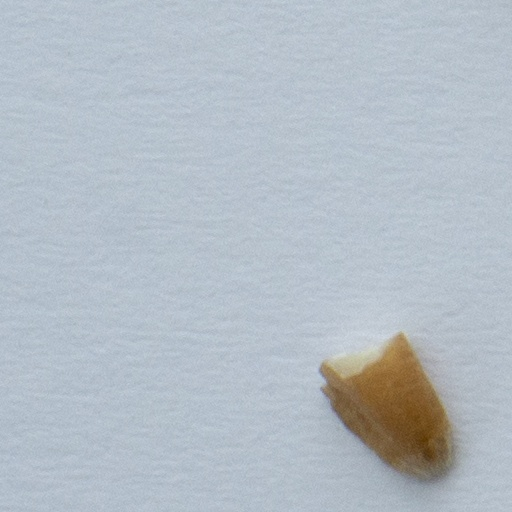Wheat-grain-damaged-poly: (316, 330, 457, 479)
